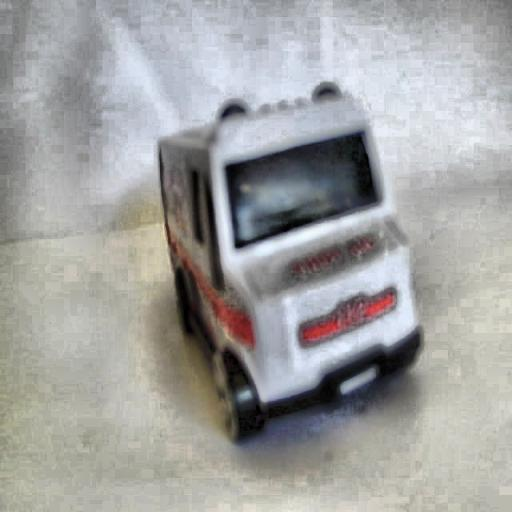ambulance: (156, 82, 422, 443)
